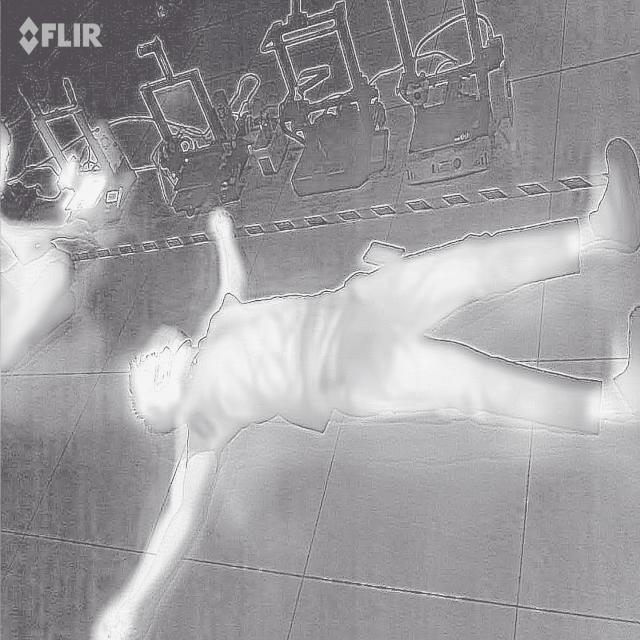Victim: (91, 132, 640, 638), (0, 98, 75, 384)
